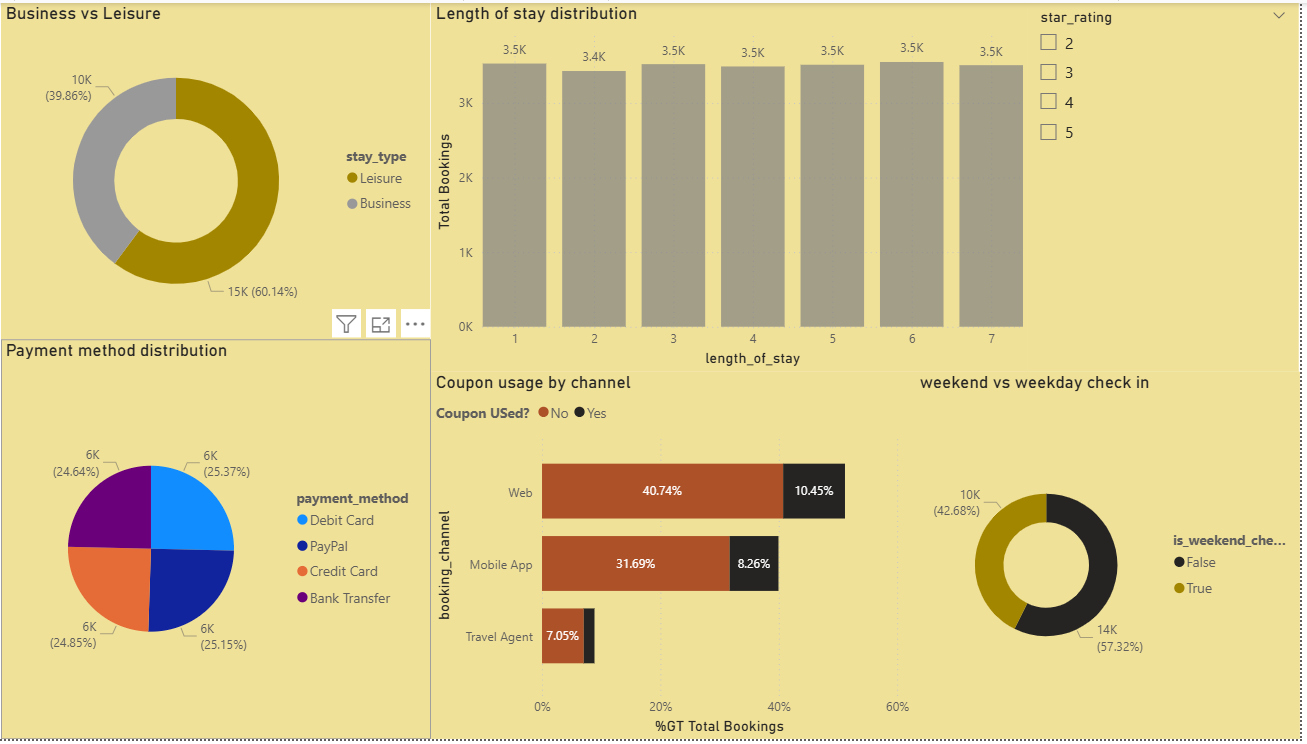

This screenshot's page, from the dashboard's own definition file:
{"tool":"powerbi","page":{"name":"Customer Behaviour","canvas":[1280,720],"ordinal":3},"visuals":[{"type":"donutChart","title":"Business vs Leisure","fields":{"Category":["Hotels Booking.stay_type"],"Y":["_Measures.Total Bookings"]},"box":[10.1,0,419.8,328.9],"z":0},{"type":"pieChart","title":"Payment method distribution","fields":{"Category":["Hotels Booking.payment_method"],"Y":["_Measures.Total Bookings"]},"box":[10.1,328.9,419.8,391],"z":1000},{"type":"clusteredColumnChart","title":"Length of stay distribution","fields":{"Category":["Hotels Booking.length_of_stay"],"Y":["_Measures.Total Bookings"]},"box":[429.9,0,584.3,360.7],"z":2000},{"type":"barChart","title":"Coupon usage by channel","fields":{"Category":["Hotels Booking.booking_channel"],"Y":["_Measures.Total Bookings"],"Series":["Hotels Booking.Coupon USed?"]},"box":[429.9,360.7,473.2,359.2],"z":3000},{"type":"donutChart","title":"weekend vs weekday check in","fields":{"Category":["Hotels Booking.is_weekend_checkin"],"Y":["_Measures.Total Bookings"]},"box":[903.2,360.7,376.6,359.2],"z":4000},{"type":"slicer","fields":{"Values":["Hotels Booking.star_rating"]},"box":[1014.3,0,265.5,360.7],"z":5000}]}

Visuals, with their boxes in screenshot pixels (x1, y1, x2, y2), scaled from the page's 1280x720 canvas onto the 1307x744 screenshot:
"Business vs Leisure" donutChart: <region>10, 0, 439, 340</region>
"Payment method distribution" pieChart: <region>10, 340, 439, 743</region>
"Length of stay distribution" clusteredColumnChart: <region>439, 0, 1036, 373</region>
"Coupon usage by channel" barChart: <region>439, 373, 922, 743</region>
"weekend vs weekday check in" donutChart: <region>922, 373, 1306, 743</region>
slicer - Hotels Booking.star_rating: <region>1036, 0, 1306, 373</region>
